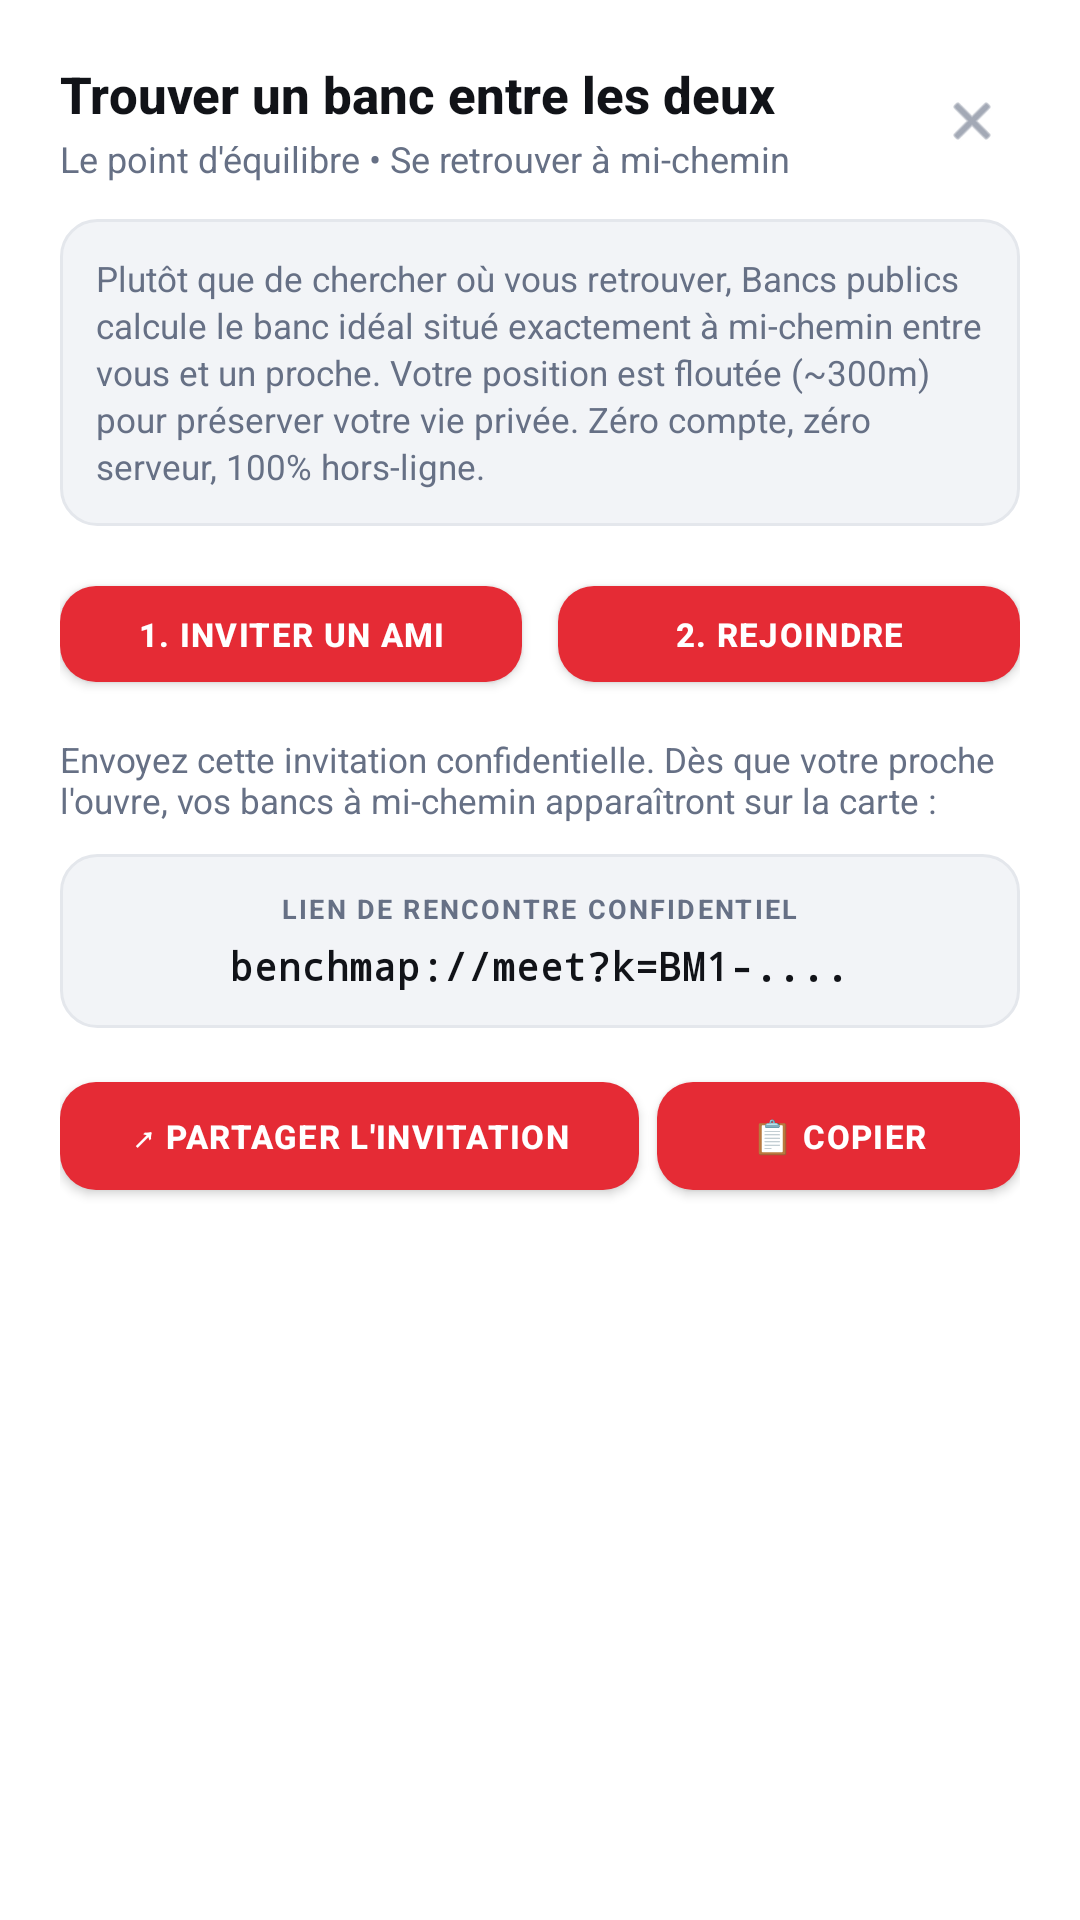

Point at icon controls on the screen. Image size 1080w x 1920h, points as [x,y].
Fermer: [972,121]
